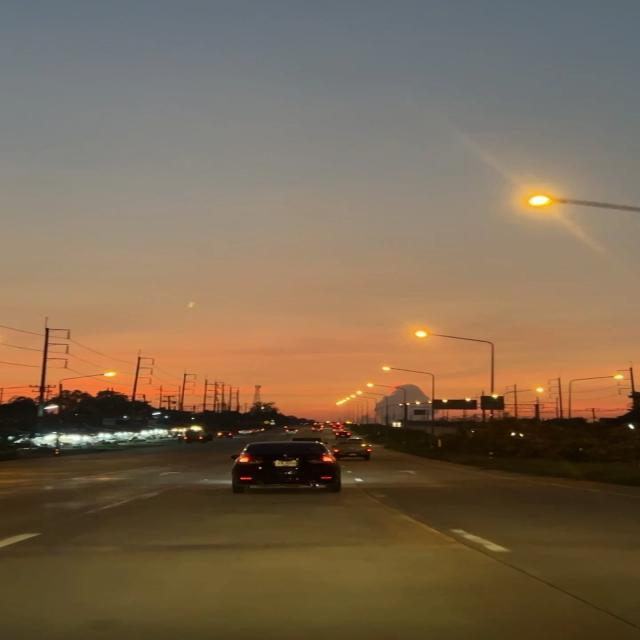Poth-hole: (139, 498, 608, 605)
